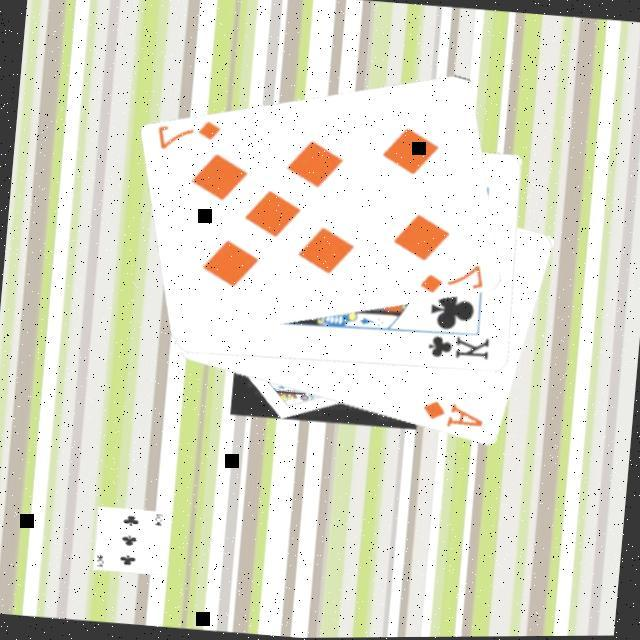7D: (414, 258, 486, 302), (152, 116, 223, 160)
AD: (416, 398, 487, 436)
KC: (416, 326, 492, 368)
